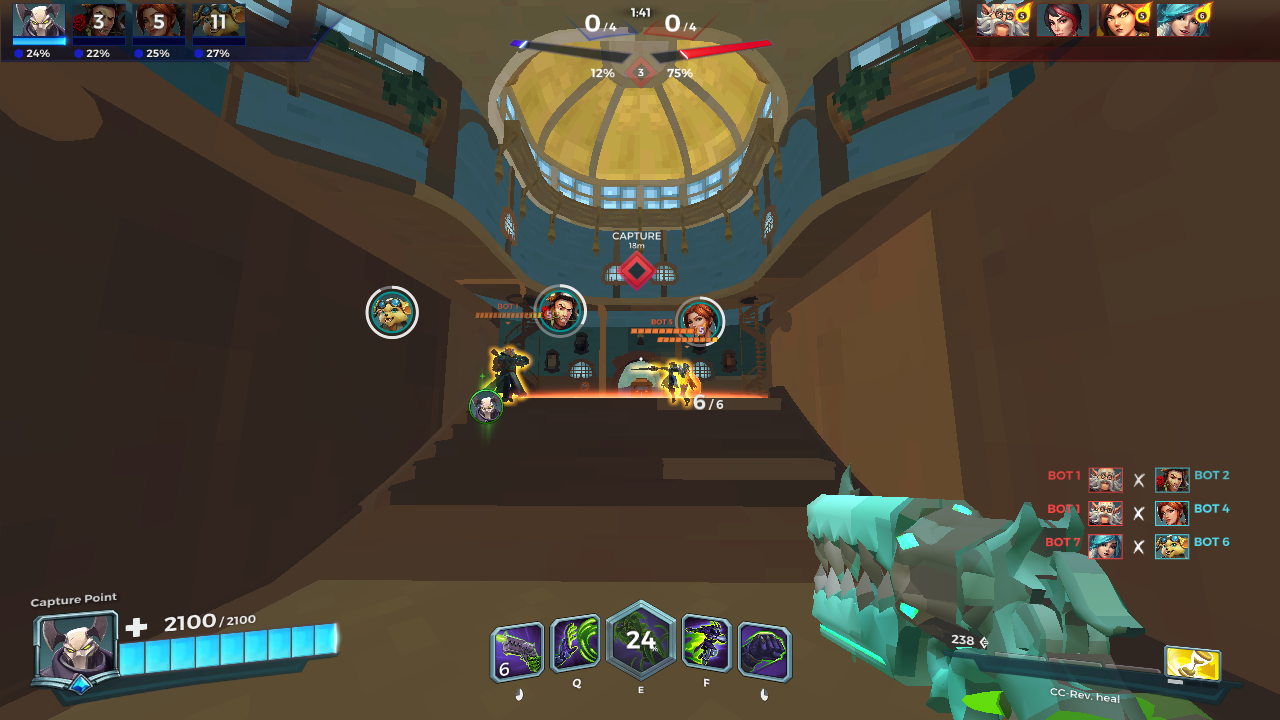model: (486, 342, 531, 407), (626, 356, 683, 406), (675, 359, 702, 406)
